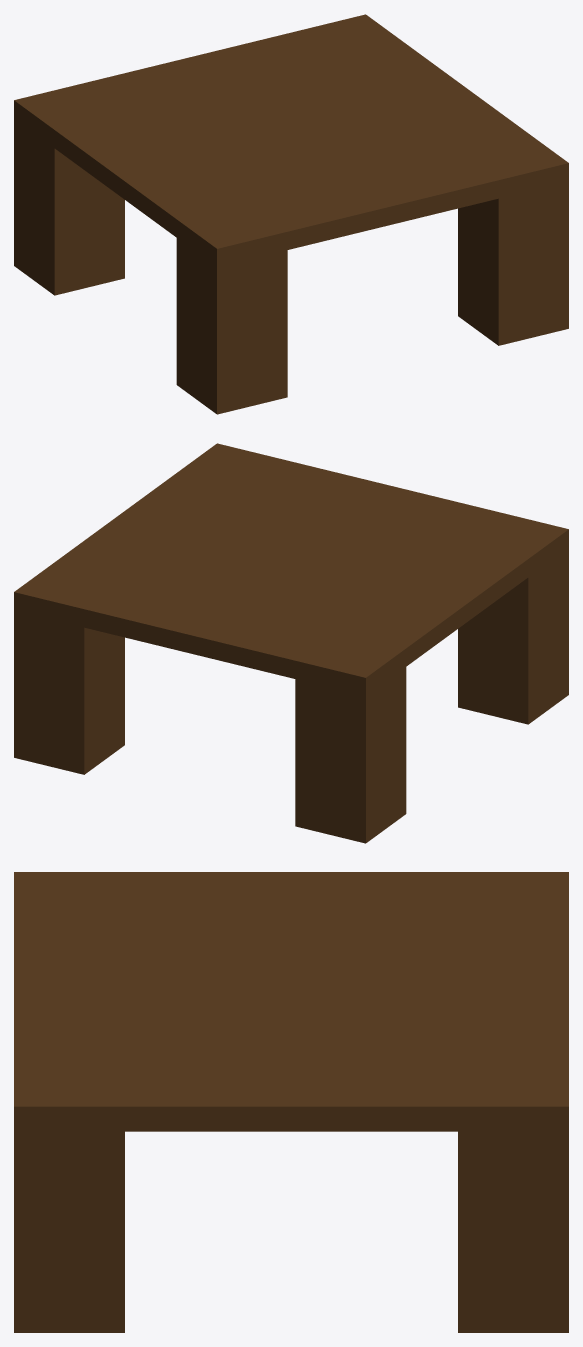
File: Mesinah.fbx
3 renders of one model, top to bottom at view 1: azimuth 30°, elevation 25°; view 2: azimuth 150°, elevation 25°; view 3: azimuth 270°, elevation 25°, orthographic. The views are drawn at different scales.
Visible parts, largest first — view 1: Mesa2; view 2: Mesa2; view 3: Mesa2.
Boxes of the visible parts, x1,y1,x2,y2 form: Mesa2: [14, 14, 568, 414]; Mesa2: [14, 443, 568, 843]; Mesa2: [14, 872, 568, 1332].
Size of the model in its own units: 10 by 4.5 by 10.
